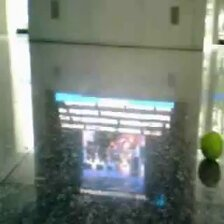tennis: (200, 131, 224, 158)
